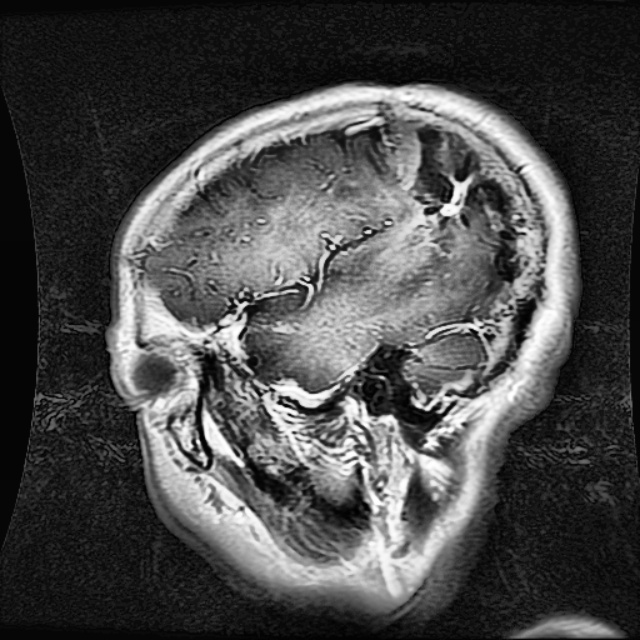Meningioma: (413, 122, 523, 290)
